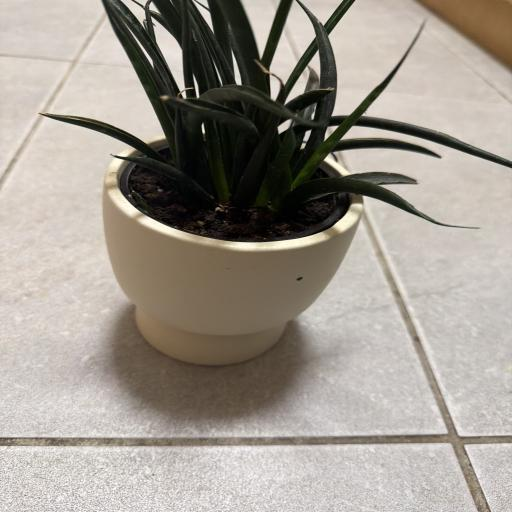Plant Pot: (97, 136, 363, 366)
